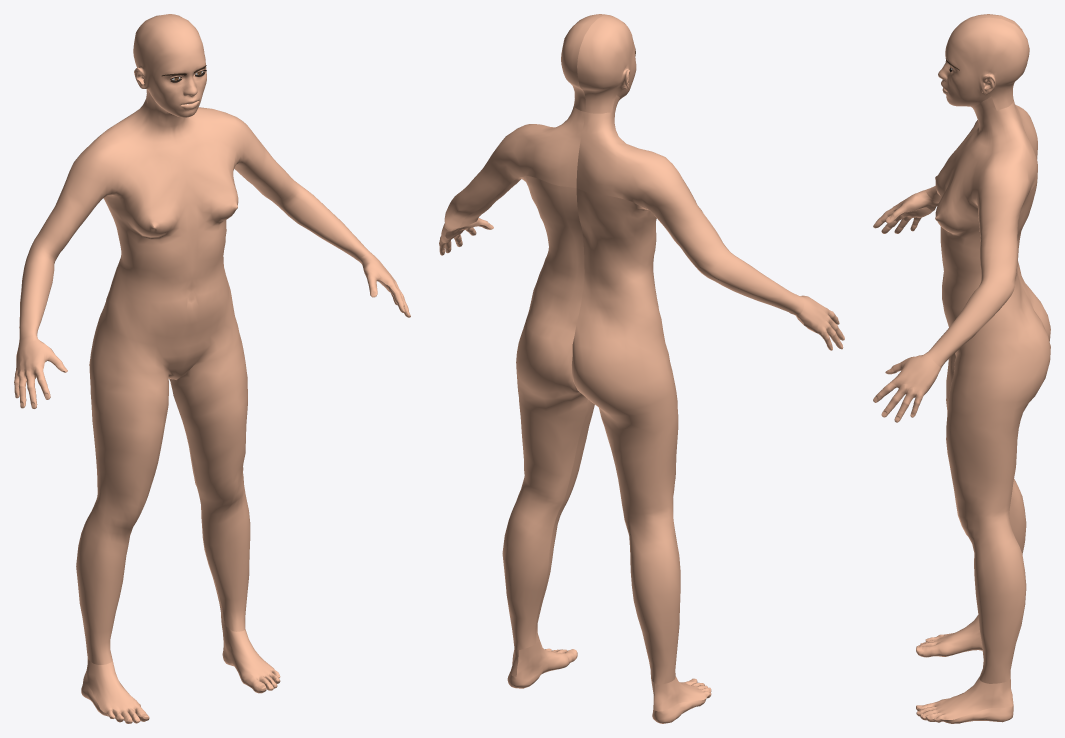
The model's file is female.glb.
3 renders of one model, left to right at view 1: azimuth 30°, elevation 25°; view 2: azimuth 150°, elevation 25°; view 3: azimuth 270°, elevation 25°, orthographic. The views are drawn at different scales.
Parts seen in each view (by area): view 1: Body; view 2: Body; view 3: Body.
Part boxes in pixels (bbox=[...]): Body: bbox=[14, 14, 410, 723]; Body: bbox=[439, 14, 844, 723]; Body: bbox=[873, 14, 1050, 723].
Size of the model in its own units: 1.22 by 2 by 0.4827.
